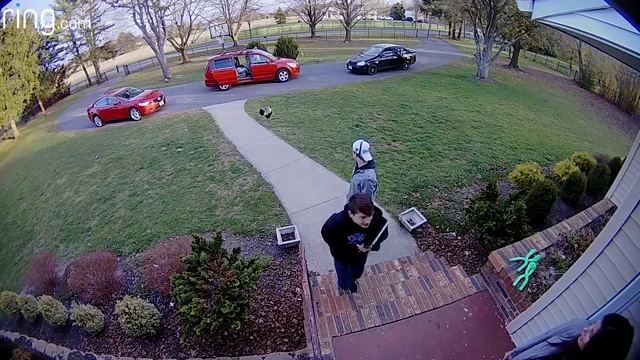face: (355, 209, 373, 231)
